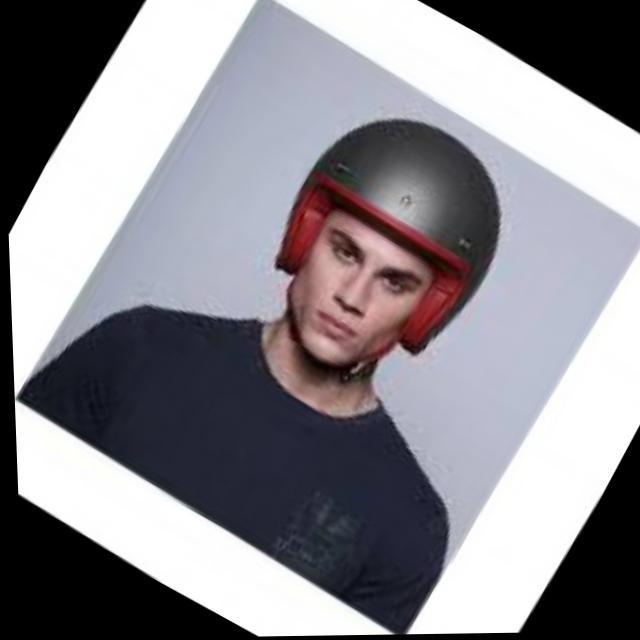Helmet: (262, 109, 506, 386)
